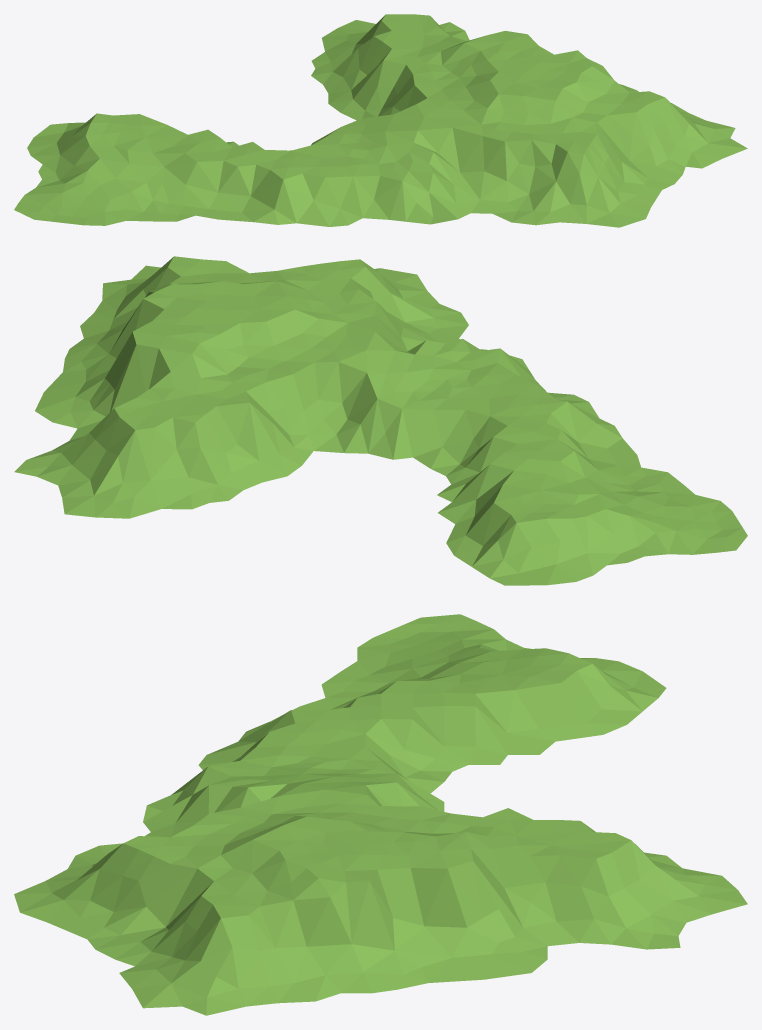
The model's file is MT_Mountain_L_c_08_LOD.fbx.
The picture shows the model from 3 angles, top to bottom: view 1: azimuth 30°, elevation 25°; view 2: azimuth 150°, elevation 25°; view 3: azimuth 270°, elevation 25°; orthographic projection. The views are drawn at different scales.
Visible parts, largest first — view 1: MT_Mountain_L_c_08_LOD0; view 2: MT_Mountain_L_c_08_LOD0; view 3: MT_Mountain_L_c_08_LOD0.
Part boxes in pixels (<box>): MT_Mountain_L_c_08_LOD0: <box>14,14,747,227</box>; MT_Mountain_L_c_08_LOD0: <box>14,256,747,585</box>; MT_Mountain_L_c_08_LOD0: <box>14,614,747,1015</box>.
Size of what is drawn, in the model's own units: 9495 by 819 by 7334.
